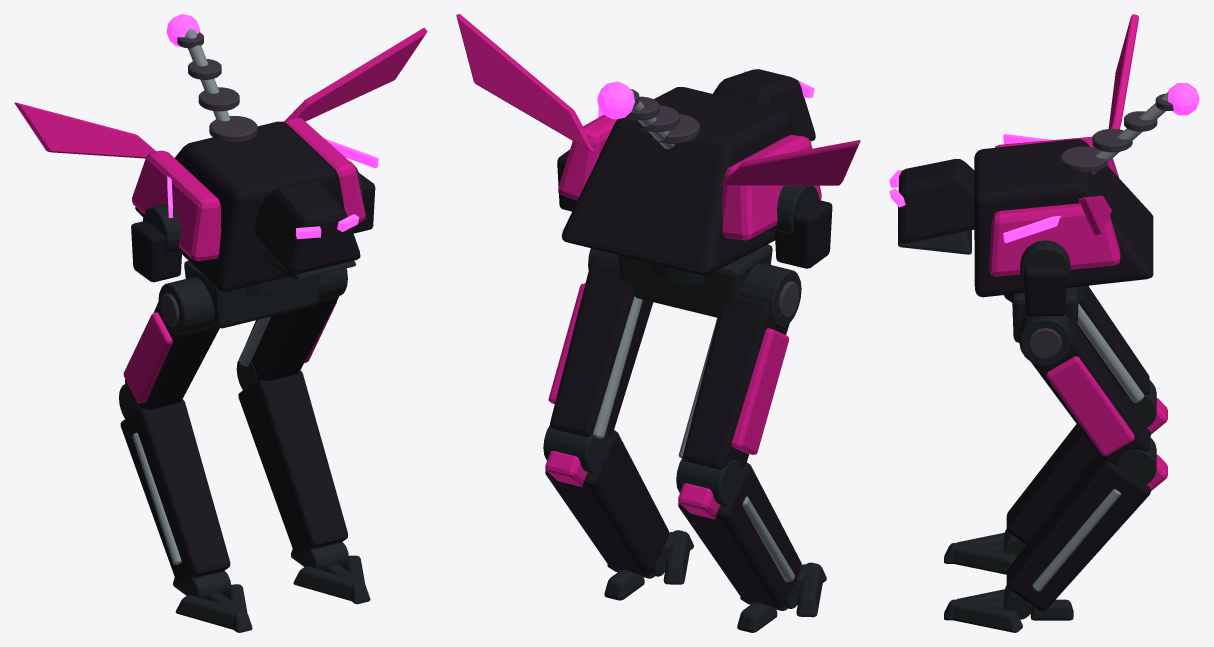
Rendered from mech_spark.glb.
The picture shows the model from 3 angles, left to right: view 1: azimuth 30°, elevation 25°; view 2: azimuth 150°, elevation 25°; view 3: azimuth 270°, elevation 25°; orthographic projection. The views are drawn at different scales.
Visible parts, largest first — view 1: core, shin_armor_R, shin_armor_L, snout, flank_L, thigh_armor_R, blade_L, pelvis, blade_R, thigh_armor_L, thigh_plate_L, upper_arm_L (+19 smaller); view 2: core, thigh_armor_R, shin_armor_R, thigh_armor_L, shin_armor_L, blade_R, pelvis, blade_L, flank_L, thigh_plate_L, snout, upper_arm_L (+19 smaller); view 3: core, shin_armor_R, flank_R, snout, shin_armor_L, thigh_plate_R, thigh_armor_R, thigh_armor_L, upper_arm_R, hip_joint_R, blade_L, piston_L (+20 smaller).
Part boxes in pixels (bbox=[...]): core: bbox=[135, 121, 344, 291]; shin_armor_R: bbox=[238, 370, 347, 556]; shin_armor_L: bbox=[120, 399, 230, 585]; snout: bbox=[254, 179, 360, 274]; flank_L: bbox=[132, 150, 221, 261]; thigh_armor_R: bbox=[245, 295, 339, 381]; blade_L: bbox=[14, 102, 155, 158]; pelvis: bbox=[184, 260, 320, 328]; blade_R: bbox=[285, 27, 427, 121]; thigh_armor_L: bbox=[125, 302, 219, 409]; thigh_plate_L: bbox=[123, 312, 172, 403]; upper_arm_L: bbox=[131, 221, 182, 282]; core: bbox=[561, 87, 793, 275]; thigh_armor_R: bbox=[550, 260, 653, 437]; shin_armor_R: bbox=[545, 430, 668, 576]; thigh_armor_L: bbox=[683, 296, 789, 470]; shin_armor_L: bbox=[678, 462, 801, 608]; blade_R: bbox=[456, 14, 596, 152]; pelvis: bbox=[618, 244, 772, 317]; blade_L: bbox=[721, 140, 860, 185]; flank_L: bbox=[721, 135, 821, 240]; thigh_plate_L: bbox=[731, 328, 788, 454]; snout: bbox=[713, 69, 815, 141]; upper_arm_L: bbox=[774, 199, 832, 268]; core: bbox=[974, 139, 1153, 297]; shin_armor_R: bbox=[1006, 453, 1150, 611]; flank_R: bbox=[989, 203, 1120, 276]; snout: bbox=[898, 159, 974, 243]; shin_armor_L: bbox=[1006, 424, 1150, 544]; thigh_plate_R: bbox=[1046, 356, 1134, 456]; thigh_armor_R: bbox=[1030, 323, 1149, 465]; thigh_armor_L: bbox=[1077, 287, 1149, 396]; upper_arm_R: bbox=[1024, 266, 1066, 316]; hip_joint_R: bbox=[1019, 313, 1071, 365]; blade_L: bbox=[1108, 14, 1138, 129]; piston_L: bbox=[1077, 303, 1144, 402].
Size of the model in its own units: 6.18 by 7.92 by 4.41.
